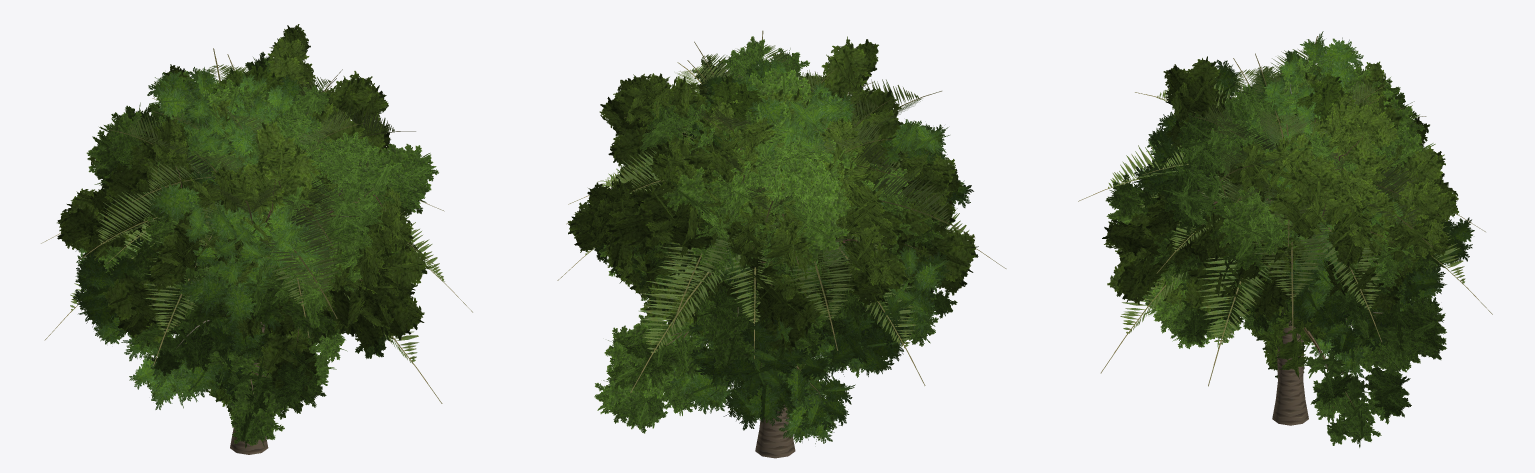
The model's file is arboles.glb.
The picture shows the model from 3 angles, left to right: view 1: azimuth 30°, elevation 25°; view 2: azimuth 150°, elevation 25°; view 3: azimuth 270°, elevation 25°; orthographic projection. The views are drawn at different scales.
Visible parts, largest first — view 1: pino_b_hojas, frondosa_b_hojas, frondosa_a_hojas, frondosa_baja_hojas, pino_a_hojas, palmera_b_hojas, palmera_a_hojas, chopo_hojas, cipres_hojas, palmera_b_tronco; view 2: pino_b_hojas, frondosa_a_hojas, frondosa_b_hojas, pino_a_hojas, palmera_b_hojas, frondosa_baja_hojas, palmera_a_hojas, chopo_hojas, cipres_hojas, palmera_b_tronco; view 3: pino_b_hojas, frondosa_baja_hojas, frondosa_a_hojas, pino_a_hojas, frondosa_b_hojas, palmera_a_hojas, palmera_b_hojas, cipres_hojas, chopo_hojas, palmera_b_tronco, palmera_a_tronco.
Boxes of the visible parts, left/top/right/bottom form: pino_b_hojas: left=57, top=64, right=433, bottom=396; frondosa_b_hojas: left=72, top=67, right=329, bottom=409; frondosa_a_hojas: left=86, top=70, right=431, bottom=430; frondosa_baja_hojas: left=108, top=52, right=438, bottom=448; pino_a_hojas: left=128, top=24, right=414, bottom=340; palmera_b_hojas: left=41, top=48, right=444, bottom=403; palmera_a_hojas: left=107, top=54, right=472, bottom=337; chopo_hojas: left=184, top=73, right=321, bottom=225; cipres_hojas: left=203, top=64, right=285, bottom=415; palmera_b_tronco: left=230, top=360, right=268, bottom=454; pino_b_hojas: left=599, top=36, right=978, bottom=355; frondosa_a_hojas: left=598, top=68, right=943, bottom=398; frondosa_b_hojas: left=636, top=91, right=973, bottom=443; pino_a_hojas: left=568, top=73, right=962, bottom=336; palmera_b_hojas: left=566, top=60, right=1006, bottom=392; frondosa_baja_hojas: left=592, top=36, right=957, bottom=433; palmera_a_hojas: left=557, top=30, right=912, bottom=358; chopo_hojas: left=688, top=58, right=854, bottom=192; cipres_hojas: left=707, top=75, right=818, bottom=417; palmera_b_tronco: left=755, top=373, right=795, bottom=458; pino_b_hojas: left=1102, top=56, right=1458, bottom=320; frondosa_baja_hojas: left=1142, top=84, right=1412, bottom=447; frondosa_a_hojas: left=1105, top=56, right=1447, bottom=375; pino_a_hojas: left=1146, top=58, right=1458, bottom=319; frondosa_b_hojas: left=1132, top=31, right=1474, bottom=377; palmera_a_hojas: left=1140, top=53, right=1485, bottom=386; palmera_b_hojas: left=1078, top=36, right=1492, bottom=373; cipres_hojas: left=1248, top=73, right=1355, bottom=378; chopo_hojas: left=1236, top=50, right=1331, bottom=157; palmera_b_tronco: left=1272, top=341, right=1308, bottom=425; palmera_a_tronco: left=1277, top=309, right=1303, bottom=398.
Bounding box in the file's own units: 1.15 × 1 × 1.17.
Materials: 12 (12 with a texture image).
